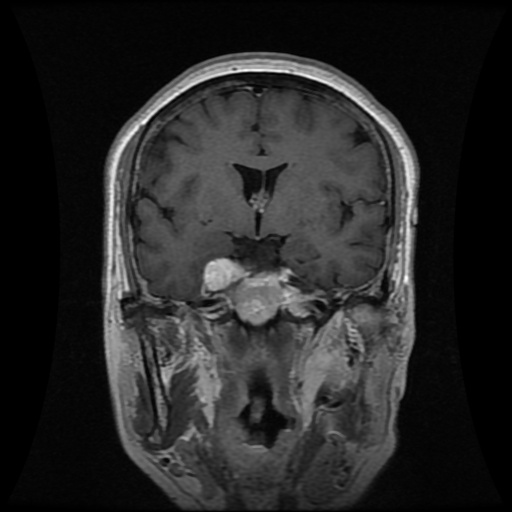meningioma: (203, 256, 251, 291)
